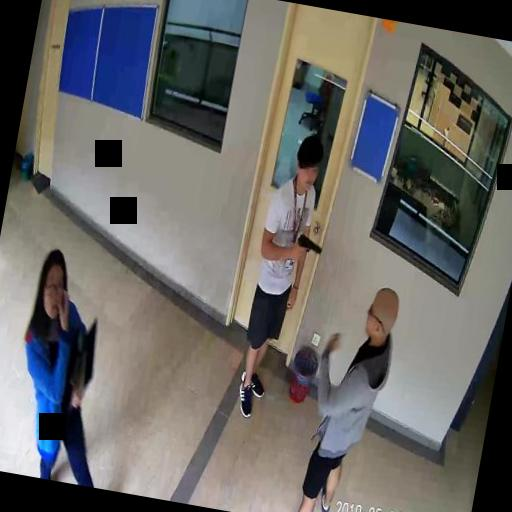Handgun: (292, 231, 322, 263)
